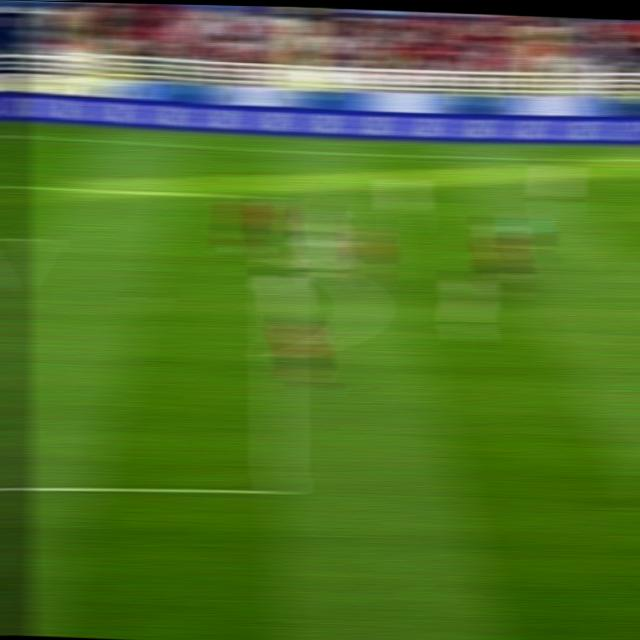bigarea_bottom_inner: (262, 477, 294, 500)
bigarea_top_inner: (264, 189, 289, 204)
bottom_arc_area_intersection: (262, 347, 294, 364)
smallarea_top_inner: (22, 232, 49, 249)
